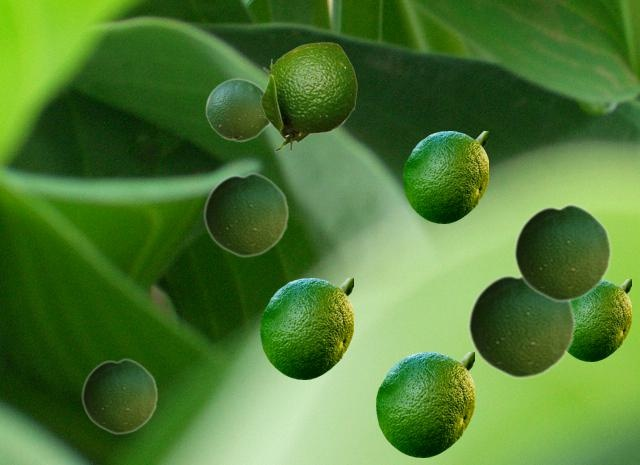dalandan: (467, 271, 575, 379), (259, 42, 356, 151), (376, 352, 473, 456), (513, 203, 611, 302), (260, 278, 352, 378), (403, 131, 487, 222), (203, 172, 288, 257), (81, 357, 157, 434), (568, 279, 630, 360), (205, 78, 270, 141)
